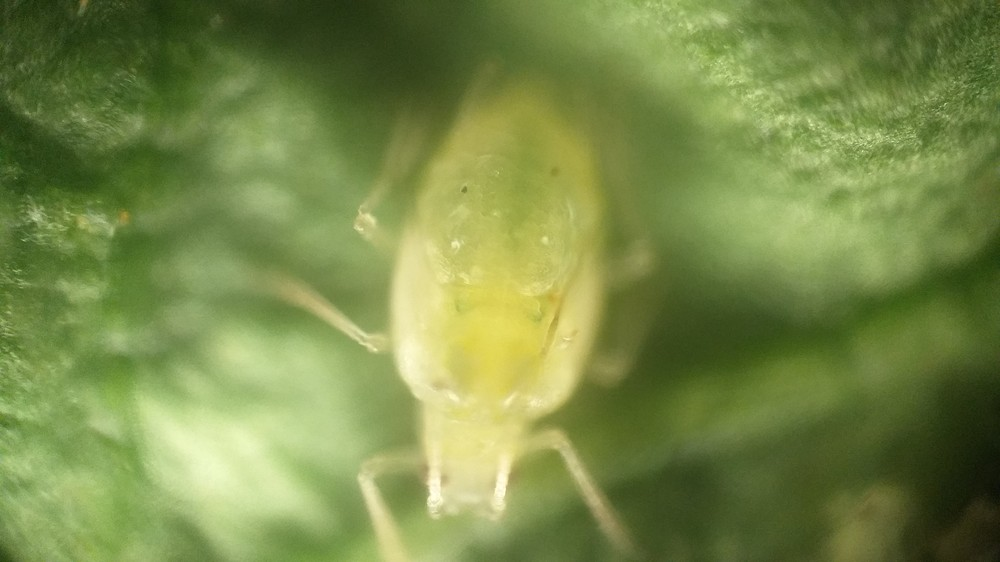Pulgon: (260, 54, 711, 557)
